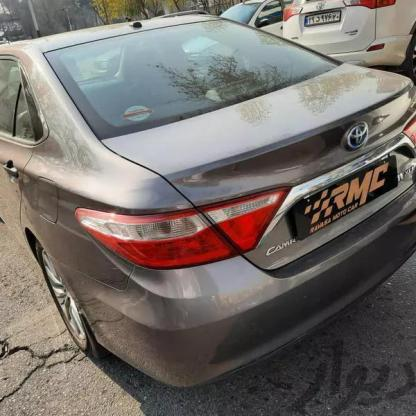Car: (0, 4, 416, 360), (265, 0, 416, 102)
